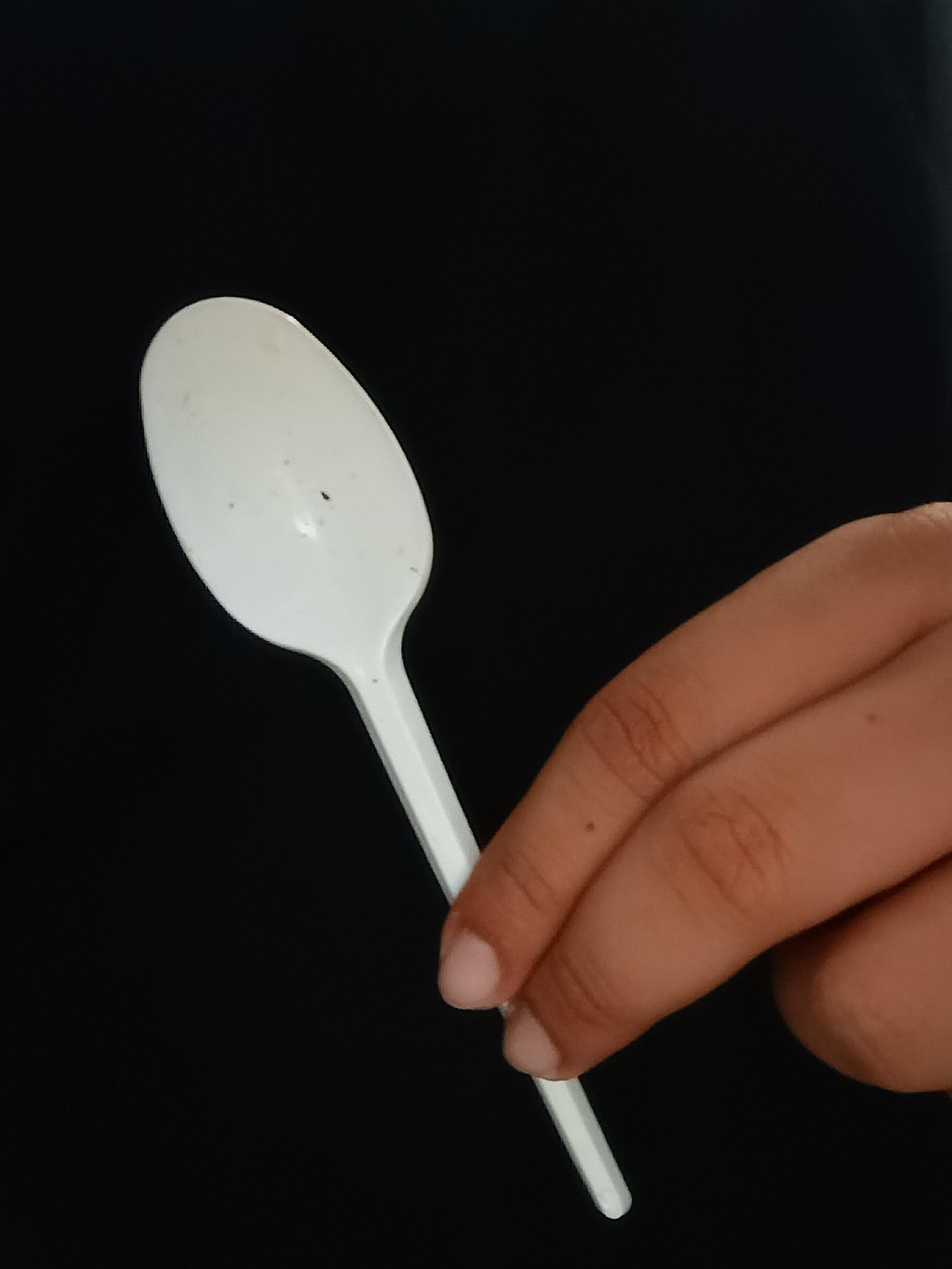Ordinario: (140, 297, 630, 1219)
